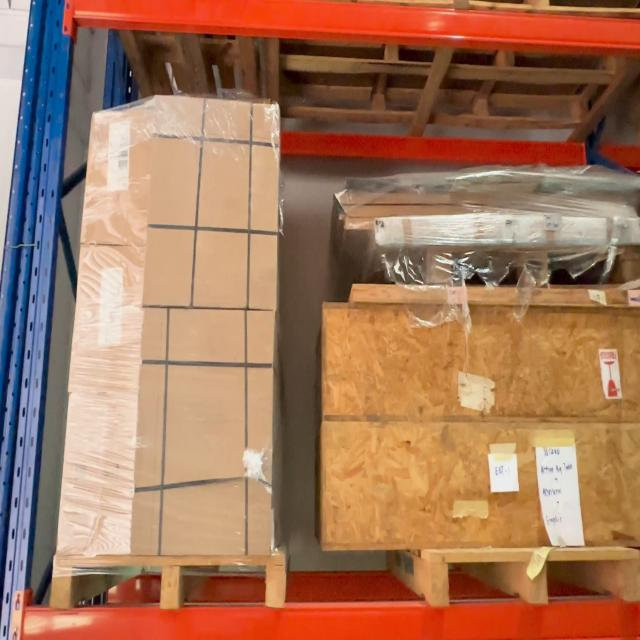box: (146, 316, 270, 556), (155, 100, 277, 308), (65, 393, 128, 553), (80, 249, 138, 390), (92, 114, 146, 243)
